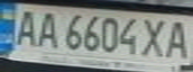0: (100, 15, 121, 54)
4: (118, 15, 142, 56)
6: (78, 12, 103, 53), (60, 11, 84, 52)
A: (160, 17, 193, 61), (9, 7, 42, 47), (33, 8, 63, 50)
X: (139, 16, 172, 60)
